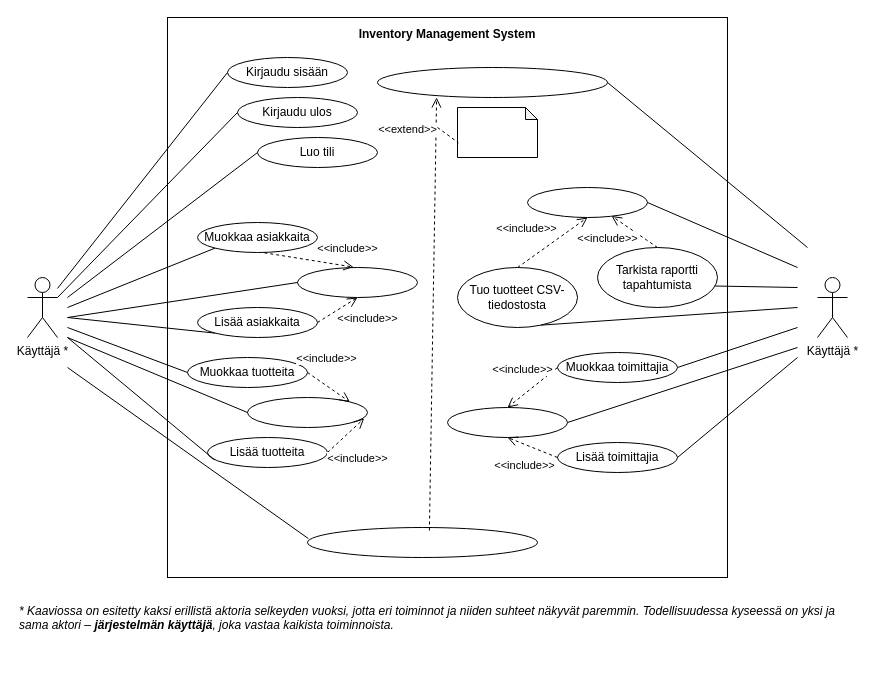
This 875x685 diagram has some shape labels left out. The centre of each missing label's shape, as x and y in pixels:
Näytä etusivu: point (587, 202)
Tarkastele asiakkaita: point (357, 282)
Tarkastele toimittajia: point (507, 422)
Tarkastele tuotteita: point (307, 412)
Tarkastele/lisää myyntitapahtumia: point (492, 82)
Tarkastele/lisää ostotapahtumia: point (422, 542)
{jos tuotetta ei ole tarpeeksi}: point (497, 132)
